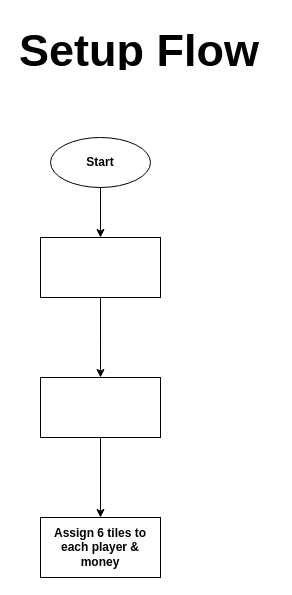
Some shapes in this 292 by 595 pixel diagram are drawn without their labels. Each missing label, with the centre of its shape:
"Assign a tile to each player & Place tile" goes at pixel 100 267.
"Decide the first player" goes at pixel 100 407.
